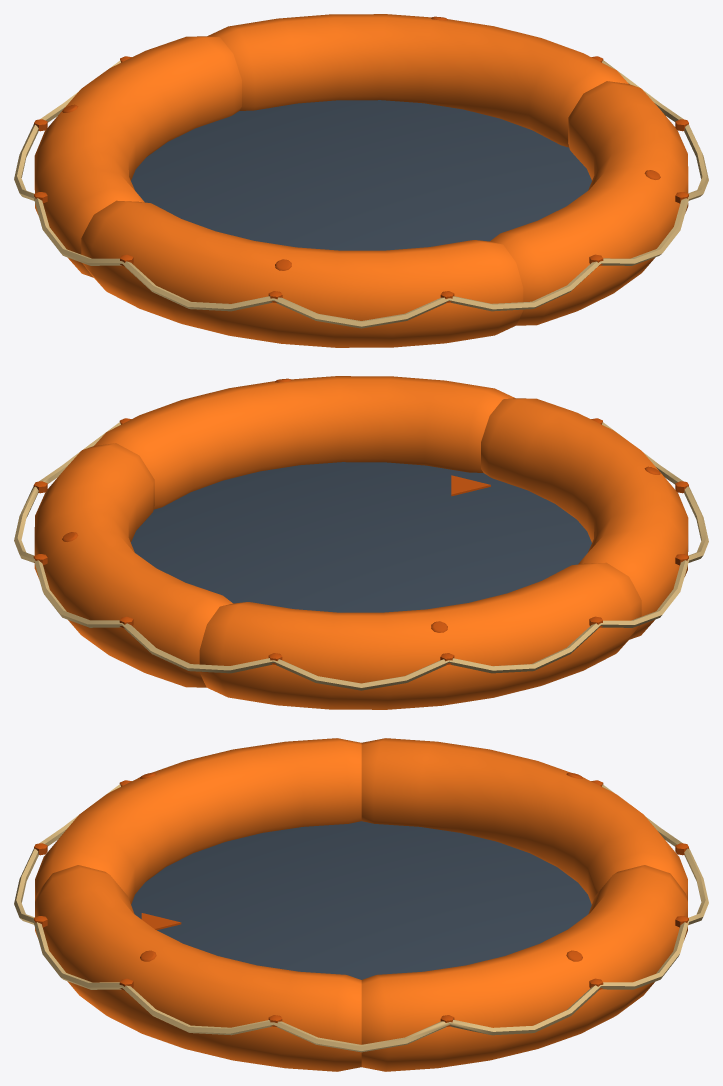
Rendered from Raft.fbx.
The picture shows the model from 3 angles, top to bottom: view 1: azimuth 30°, elevation 25°; view 2: azimuth 150°, elevation 25°; view 3: azimuth 270°, elevation 25°; orthographic projection.
Parts seen in each view (by area): view 1: Raft_Floor, Chamber_0_NE, Chamber_3_SO, Chamber_1_NO, Chamber_2_SE, Raft_Rope; view 2: Raft_Floor, Chamber_2_SE, Chamber_1_NO, Chamber_3_SO, Chamber_0_NE, Raft_Rope; view 3: Raft_Floor, Chamber_1_NO, Chamber_3_SO, Chamber_0_NE, Chamber_2_SE, Raft_Rope.
Boxes of the visible parts, x1,y1,x2,y2 form: Raft_Floor: (131,100,591,250); Chamber_0_NE: (81,200,523,347); Chamber_3_SO: (207,14,628,147); Chamber_1_NO: (490,81,688,325); Chamber_2_SE: (34,36,241,277); Raft_Rope: (14,56,708,328); Raft_Floor: (131,462,591,612); Chamber_2_SE: (199,562,641,709); Chamber_1_NO: (94,376,515,509); Chamber_3_SO: (34,443,232,687); Chamber_0_NE: (481,398,688,639); Raft_Rope: (14,418,708,690); Raft_Floor: (131,821,591,979); Chamber_1_NO: (35,865,361,1071); Chamber_3_SO: (361,865,687,1071); Chamber_0_NE: (35,738,361,904); Chamber_2_SE: (361,738,687,904); Raft_Rope: (14,780,708,1052).
Bounding box in the file's own units: 4.21 × 0.6 × 4.21.
